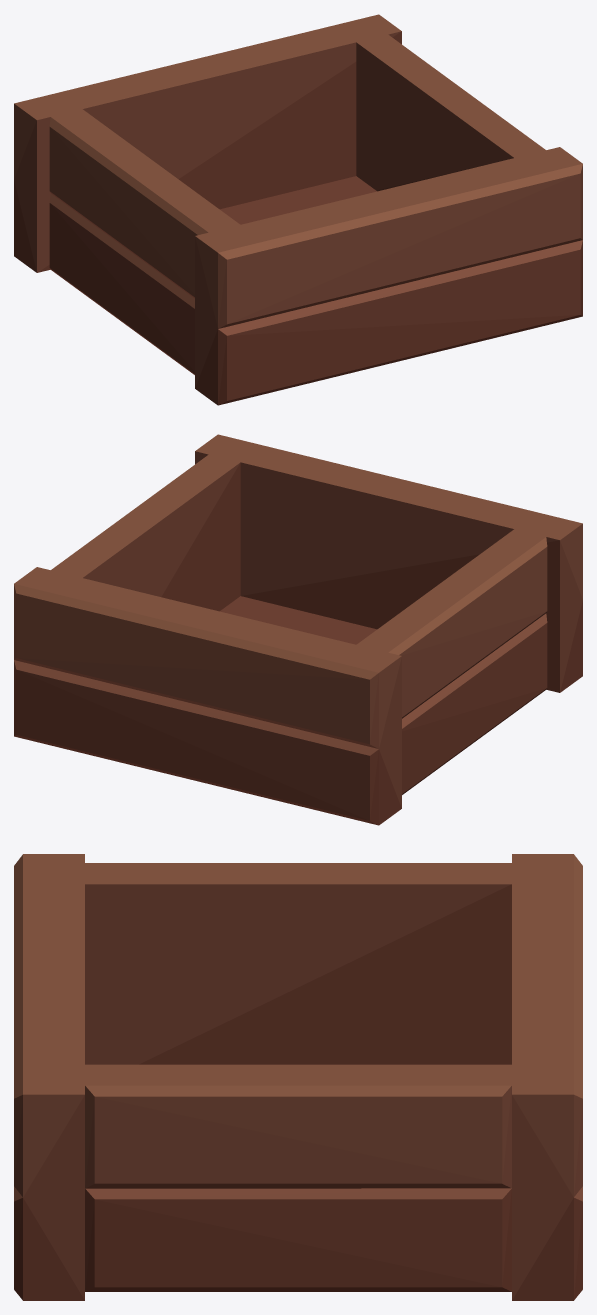
The model's file is kk_restaurant_crate.glb.
3 renders of one model, top to bottom at view 1: azimuth 30°, elevation 25°; view 2: azimuth 150°, elevation 25°; view 3: azimuth 270°, elevation 25°, orthographic. The views are drawn at different scales.
Visible parts, largest first — view 1: kk_restaurant_crate; view 2: kk_restaurant_crate; view 3: kk_restaurant_crate.
Boxes of the visible parts, <box> form: kk_restaurant_crate: <box>14,14,582,405</box>; kk_restaurant_crate: <box>14,434,582,825</box>; kk_restaurant_crate: <box>14,854,582,1300</box>.
Bounding box in the file's own units: 2 × 0.8 × 2.
